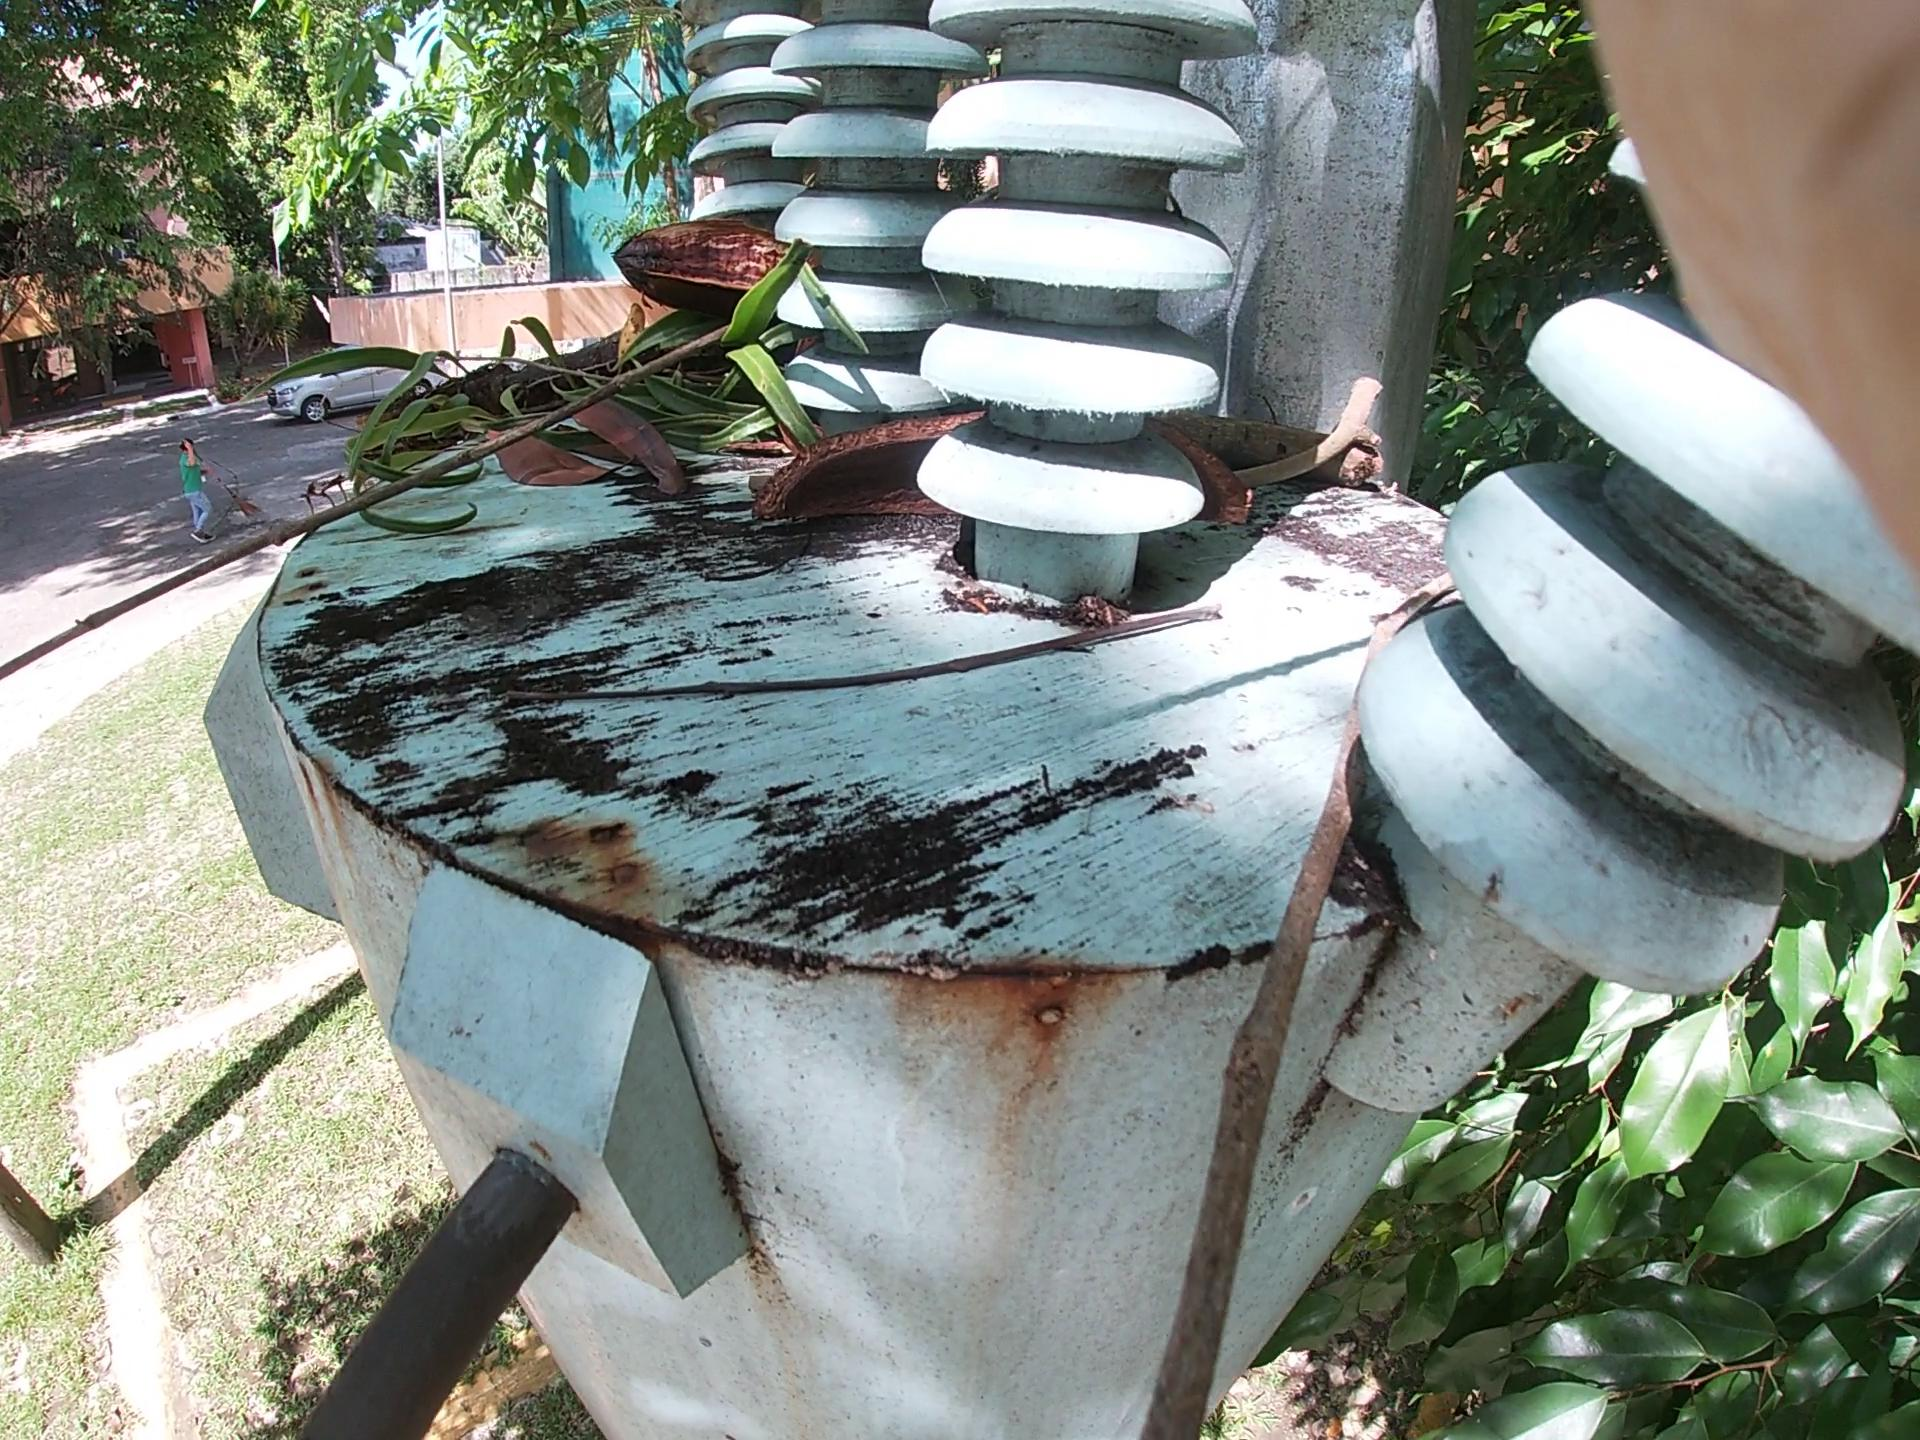branch with leaves: (215, 266, 765, 498)
leaf: (441, 402, 670, 511)
mahogany fruit: (721, 404, 999, 560), (568, 186, 812, 352)
tree branch: (1172, 626, 1441, 1402), (139, 303, 845, 591), (1191, 318, 1439, 537), (636, 604, 1188, 672)
